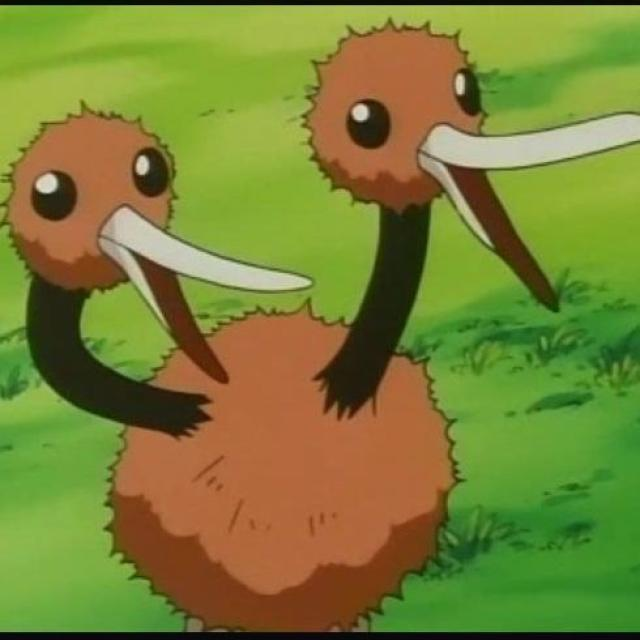Doduo: (6, 29, 521, 567)
